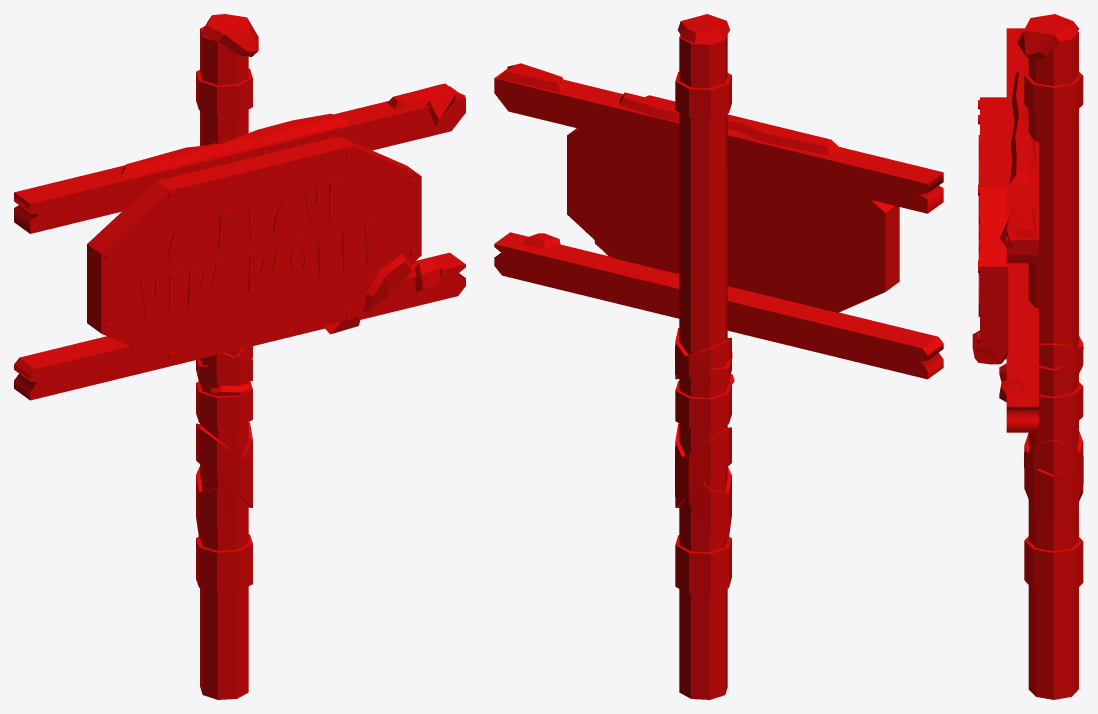
Rendered from Asset_NewWorldSign.glb.
3 renders of one model, left to right at view 1: azimuth 30°, elevation 25°; view 2: azimuth 150°, elevation 25°; view 3: azimuth 270°, elevation 25°, orthographic.
Visible parts, largest first — view 1: polySurface312; view 2: polySurface312; view 3: polySurface312.
Boxes of the visible parts, x1,y1,x2,y2 form: polySurface312: (14, 14, 465, 699); polySurface312: (494, 14, 943, 699); polySurface312: (972, 14, 1083, 699).
Bounding box in the file's own units: 1.29 × 1.88 × 0.2837.
